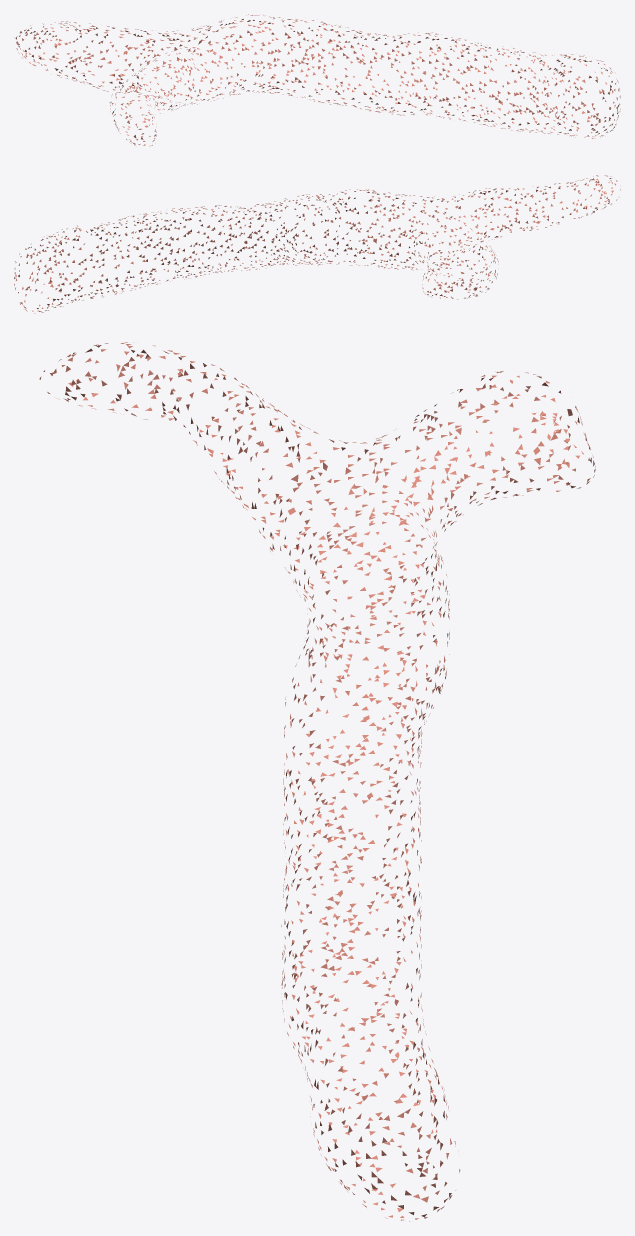
Rendered from morph_002.glb.
3 views of the same model, one above another, from view 1: azimuth 30°, elevation 25°; view 2: azimuth 150°, elevation 25°; view 3: azimuth 270°, elevation 25° (orthographic). The views are drawn at different scales.
Size of the model in its own units: 126 by 46.39 by 58.39.
